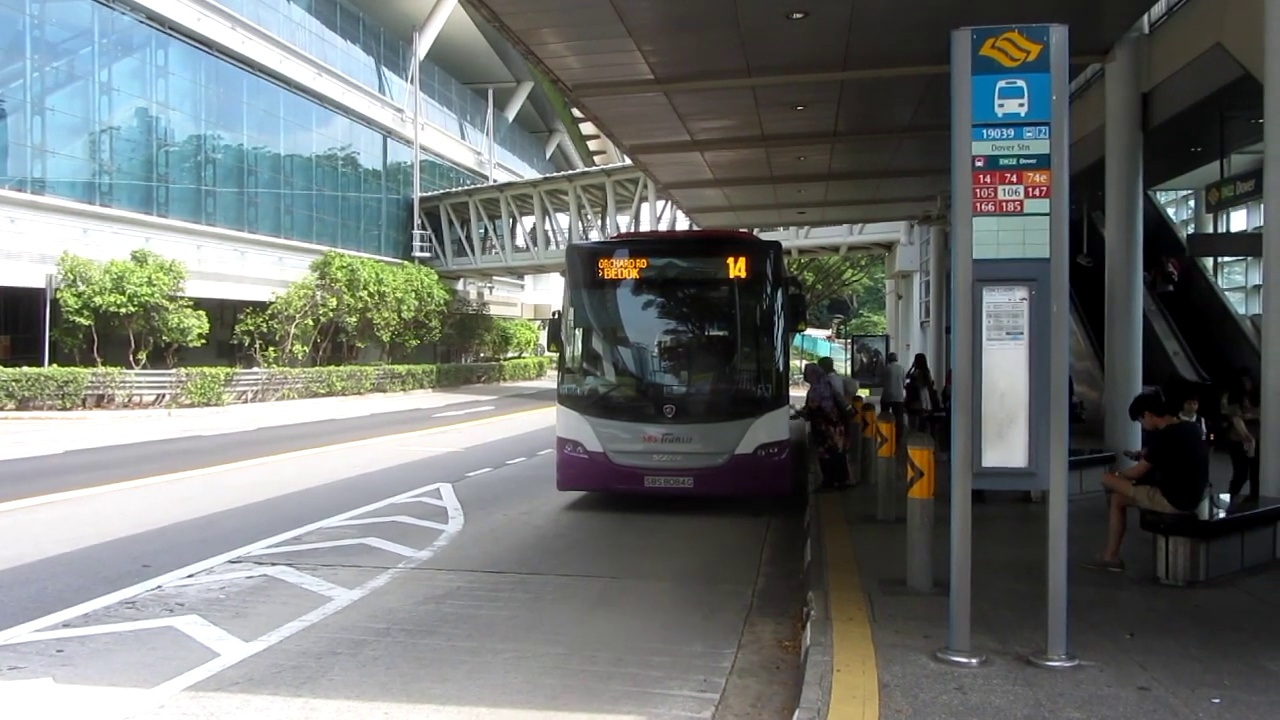bus panel: (593, 254, 751, 283)
